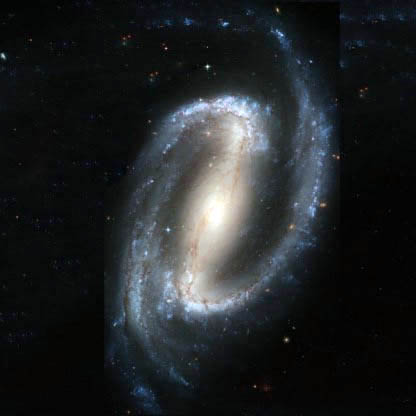NGC 1300: (106, 12, 338, 403)
